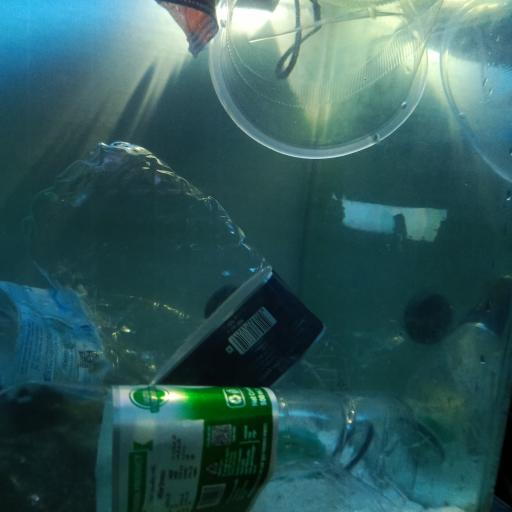mask: (163, 0, 324, 82)
plastic_bottle: (18, 140, 383, 482), (0, 278, 374, 403), (0, 385, 352, 511)
plastic_cup: (207, 0, 434, 159)
